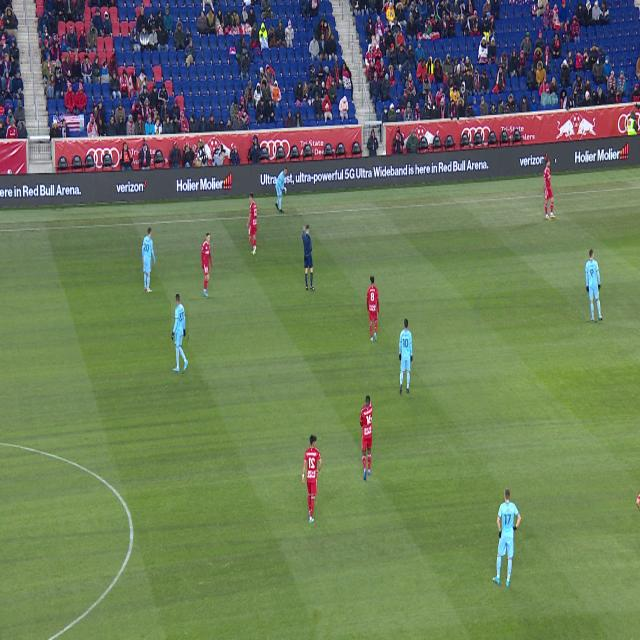player: (492, 488, 521, 587), (302, 435, 322, 523), (585, 250, 603, 321), (172, 295, 188, 372), (360, 396, 373, 480), (399, 319, 412, 395), (142, 227, 156, 292), (367, 275, 379, 342), (543, 160, 556, 219), (201, 234, 213, 297), (247, 192, 257, 255)
referee: (302, 225, 314, 290)
